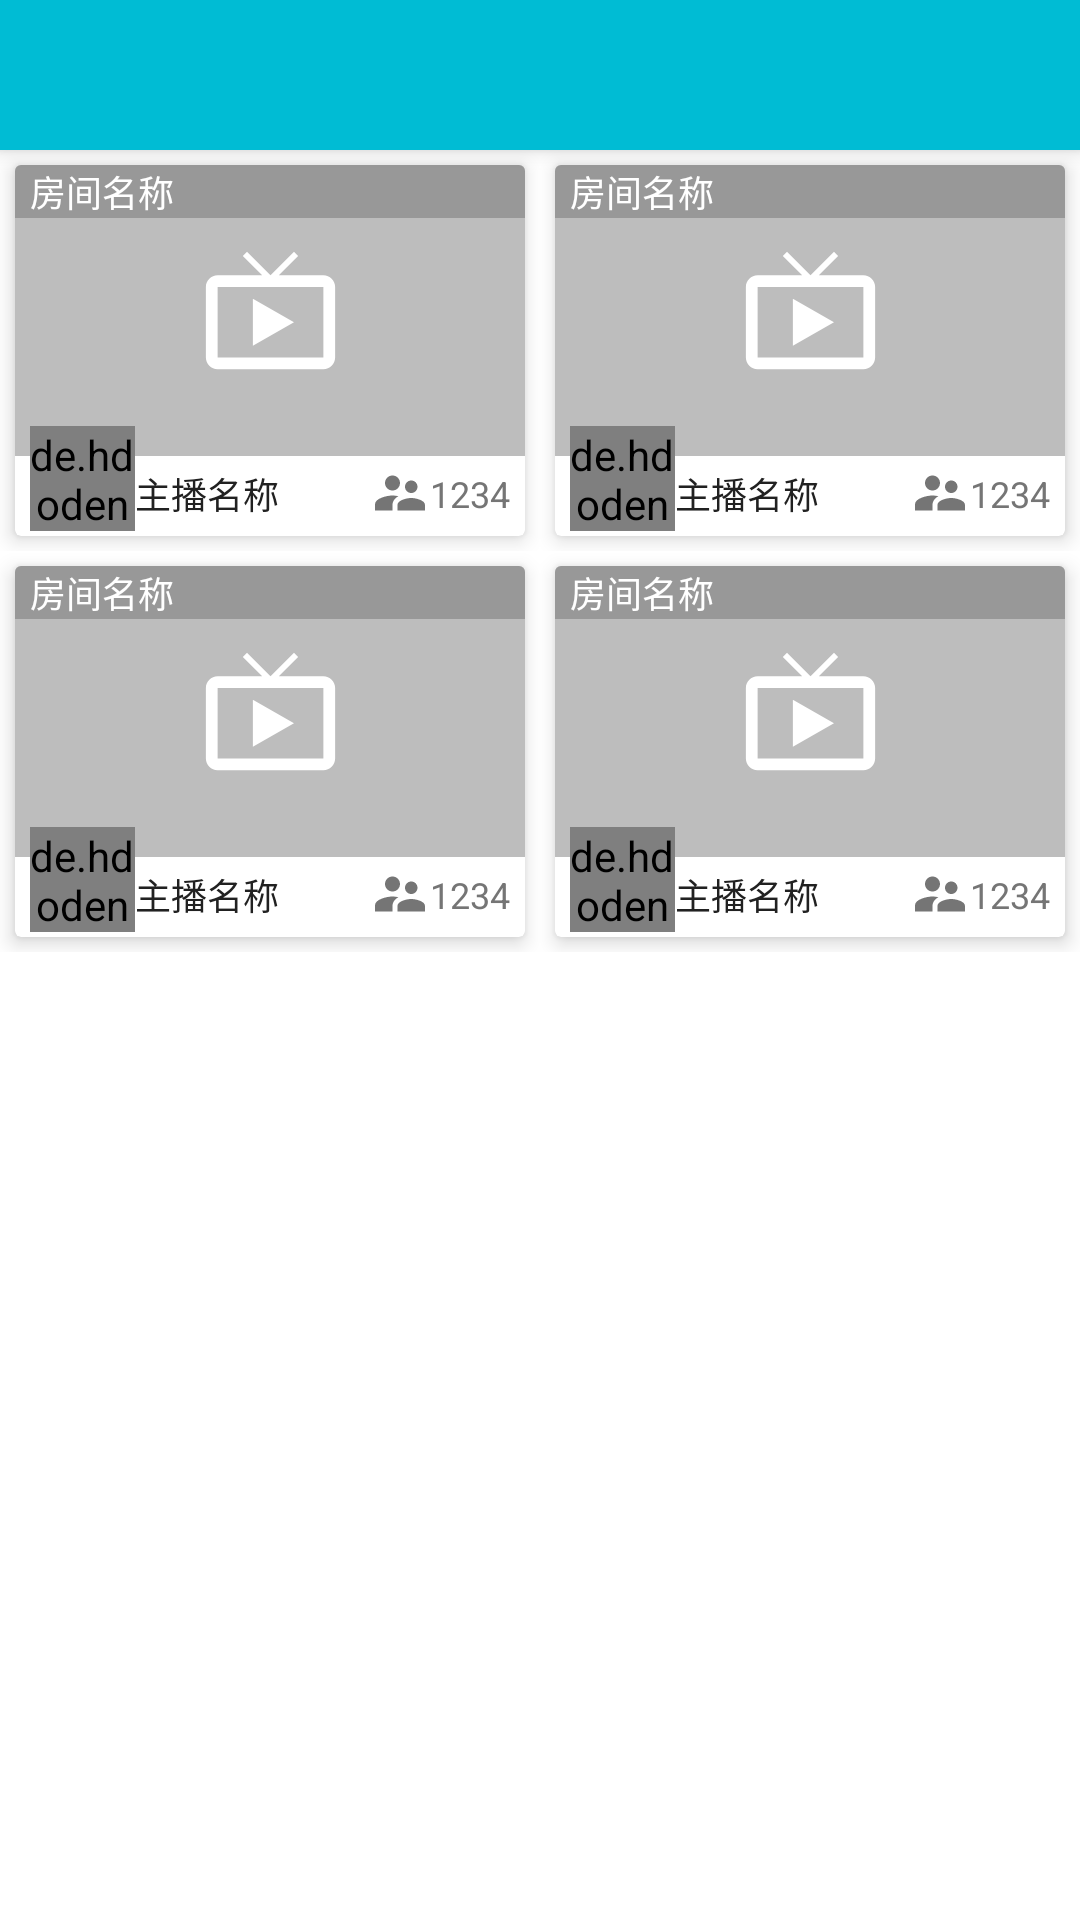

Named icons in this screenshot (1080w x 1920h) and their centers, point (x, y):
visitor: point (400, 493), point (940, 493), point (400, 894), point (940, 894)
